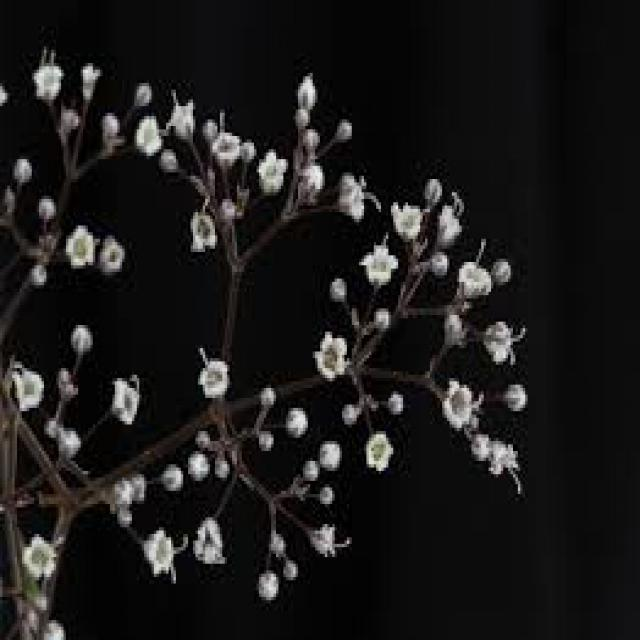gypsophila: (476, 313, 537, 373), (142, 518, 188, 588), (197, 347, 246, 403), (337, 174, 379, 236), (108, 372, 151, 432), (384, 197, 439, 243), (490, 372, 540, 420), (456, 254, 496, 314), (362, 417, 398, 482), (363, 232, 400, 292), (161, 78, 196, 141), (194, 516, 230, 576), (247, 147, 288, 197), (137, 109, 169, 173), (184, 206, 222, 253), (445, 380, 479, 432), (202, 124, 242, 166), (323, 331, 352, 382), (155, 460, 188, 493), (179, 452, 213, 480), (249, 575, 284, 601), (250, 378, 277, 408), (71, 328, 98, 353)
